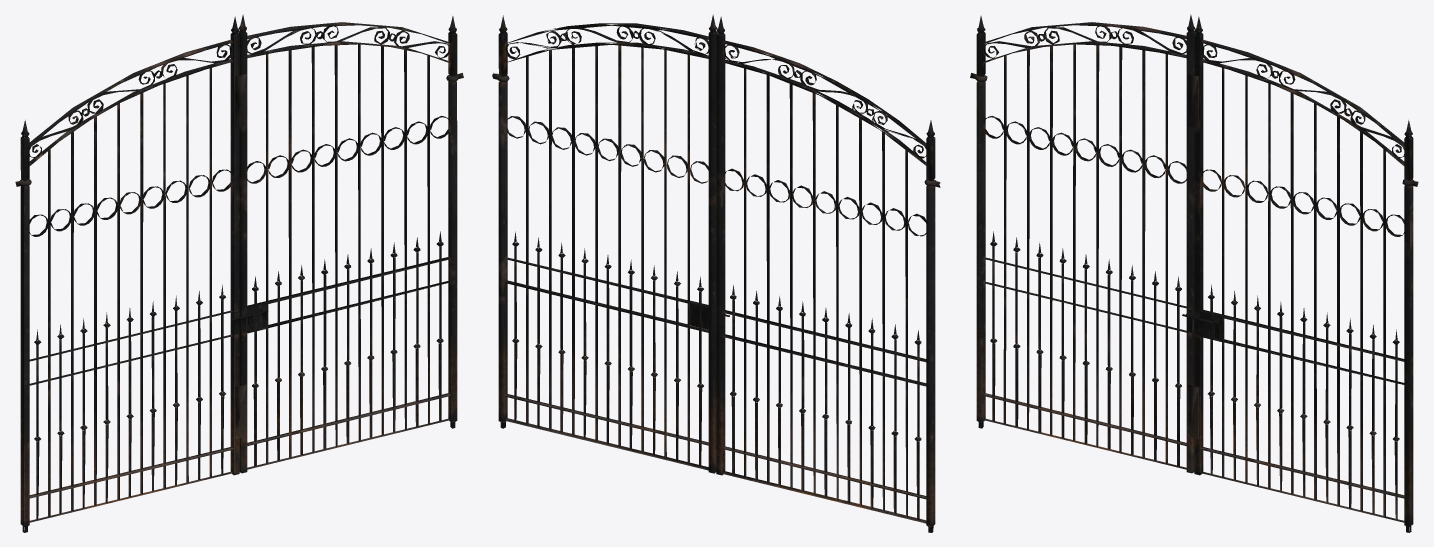
Rendered from ph_large_iron_gate.glb.
The picture shows the model from 3 angles, left to right: view 1: azimuth 30°, elevation 25°; view 2: azimuth 150°, elevation 25°; view 3: azimuth 330°, elevation 25°; orthographic projection.
Visible parts, largest first — view 1: large_iron_gate_right_door; view 2: large_iron_gate_right_door; view 3: large_iron_gate_right_door.
Part boxes in pixels (x1,y1,x2,y2): large_iron_gate_right_door: (15, 14, 463, 532); large_iron_gate_right_door: (492, 14, 940, 532); large_iron_gate_right_door: (970, 14, 1418, 532).
Bounding box in the file's own units: 2.95 × 2.93 × 0.0966.
Materials: 1 (1 with a texture image).
